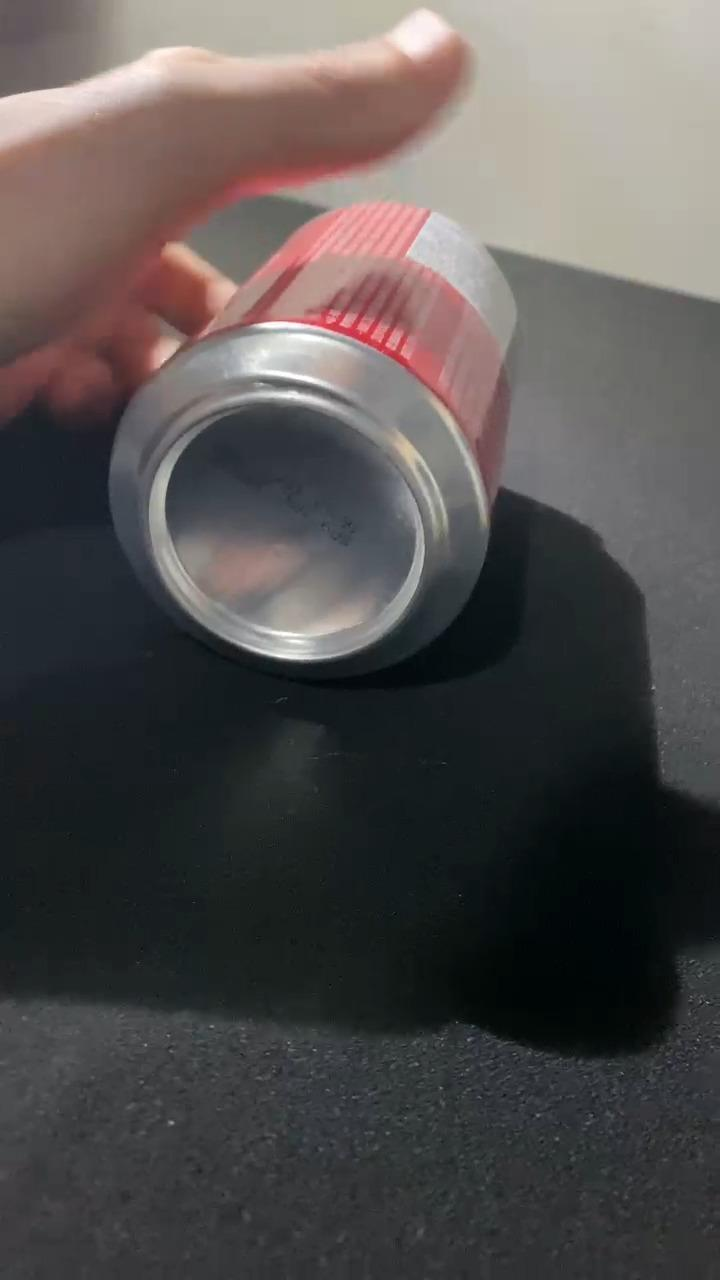coke: (106, 210, 517, 674)
